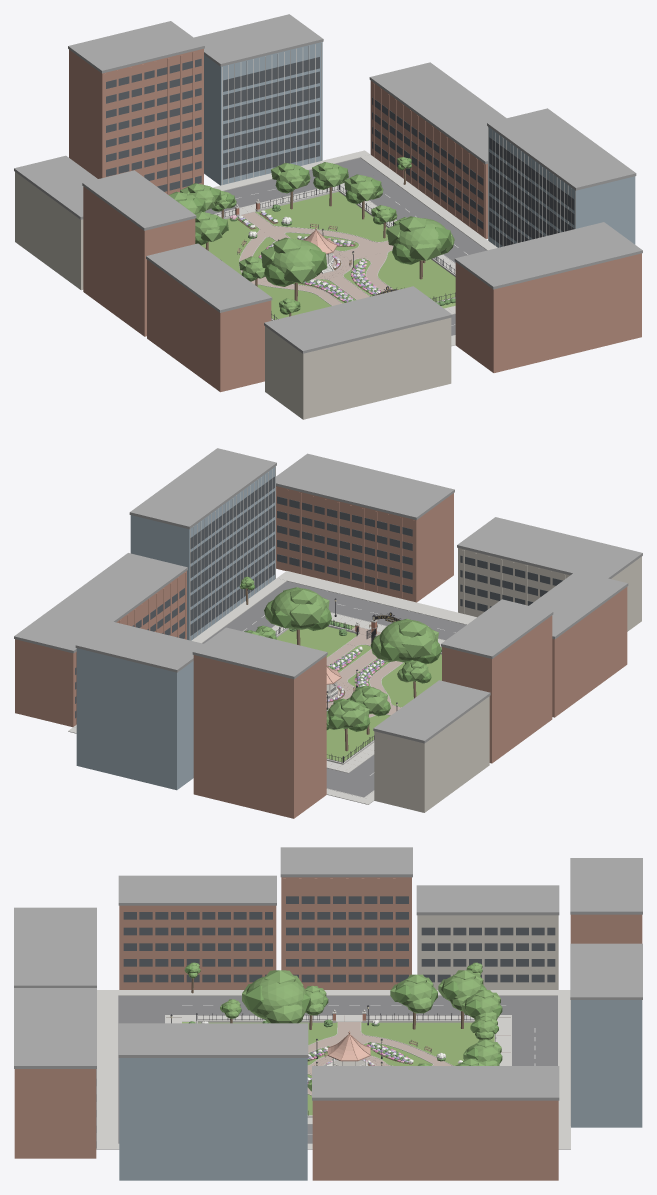
File: clay-halifax-public-gardens-clay-v002.glb
3 views of the same model, one above another, from view 1: azimuth 30°, elevation 25°; view 2: azimuth 150°, elevation 25°; view 3: azimuth 270°, elevation 25° (orthographic). The views are drawn at different scales.
Visible parts, largest first — view 1: CLAY_FACADE, CLAY_TROOF, CLAY_DARK, CLAY_FACADE2, CLAY_FACADE3, CLAY_GRASS, CLAY_TREE, CLAY_TRIM, CLAY_ASPHALT, CLAY_PAVING, CLAY_TREE2, CLAY_CONCRETE (+4 smaller); view 2: CLAY_FACADE, CLAY_TROOF, CLAY_FACADE3, CLAY_DARK, CLAY_FACADE2, CLAY_TREE, CLAY_ASPHALT, CLAY_CONCRETE, CLAY_GRASS, CLAY_TRIM, CLAY_TREE2, CLAY_PAVING (+3 smaller); view 3: CLAY_TROOF, CLAY_FACADE, CLAY_FACADE3, CLAY_DARK, CLAY_CONCRETE, CLAY_ASPHALT, CLAY_TREE, CLAY_FACADE2, CLAY_GRASS, CLAY_TREE2, CLAY_GRANITE, CLAY_PAVING (+2 smaller).
Boxes of the visible parts, x1,y1,x2,y2 form: CLAY_FACADE: (69,48,641,392); CLAY_TROOF: (14,14,642,353); CLAY_DARK: (106,57,574,246); CLAY_FACADE2: (15,172,451,419); CLAY_FACADE3: (204,42,635,247); CLAY_GRASS: (201,192,455,319); CLAY_TREE: (169,157,454,312); CLAY_TRIM: (222,43,575,247); CLAY_ASPHALT: (205,158,486,335); CLAY_PAVING: (239,212,393,305); CLAY_TREE2: (193,158,452,314); CLAY_CONCRETE: (212,150,497,346); CLAY_FACADE: (15,486,627,818); CLAY_TROOF: (14,448,642,743); CLAY_FACADE3: (76,466,275,790); CLAY_DARK: (75,476,562,718); CLAY_FACADE2: (374,548,641,812); CLAY_TREE: (239,578,438,729); CLAY_ASPHALT: (202,581,466,797); CLAY_CONCRETE: (68,571,476,804); CLAY_GRASS: (276,626,441,762); CLAY_TRIM: (190,467,275,640); CLAY_TREE2: (241,576,441,731); CLAY_PAVING: (326,627,402,717); CLAY_TROOF: (14,847,642,1100); CLAY_FACADE: (14,877,642,1180); CLAY_FACADE3: (119,1000,642,1180); CLAY_DARK: (96,896,555,1148); CLAY_CONCRETE: (96,990,570,1149); CLAY_ASPHALT: (118,996,557,1143); CLAY_TREE: (184,962,501,1091); CLAY_FACADE2: (417,915,558,989); CLAY_GRASS: (198,1022,494,1115); CLAY_TREE2: (185,965,502,1087); CLAY_GRANITE: (118,995,558,1143); CLAY_PAVING: (307,1022,452,1094).
Size of the model in its own units: 98.3 by 32.59 by 120.
